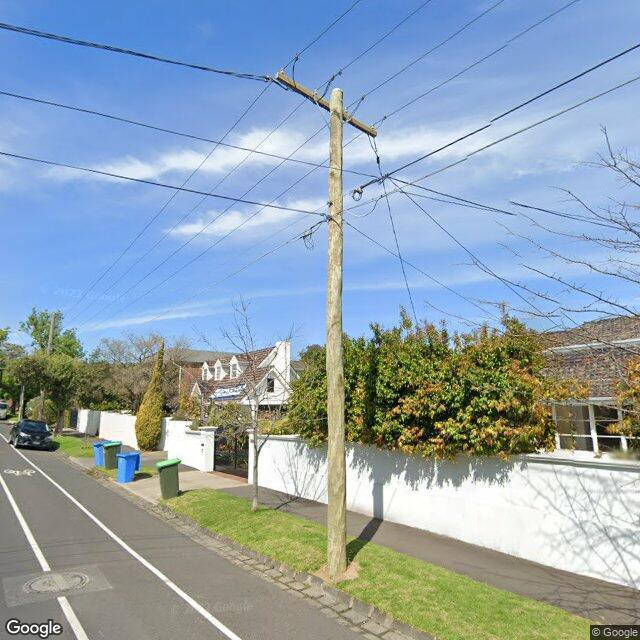crossarm: (274, 54, 387, 138)
timber-pole: (326, 89, 347, 576), (38, 312, 56, 421)
